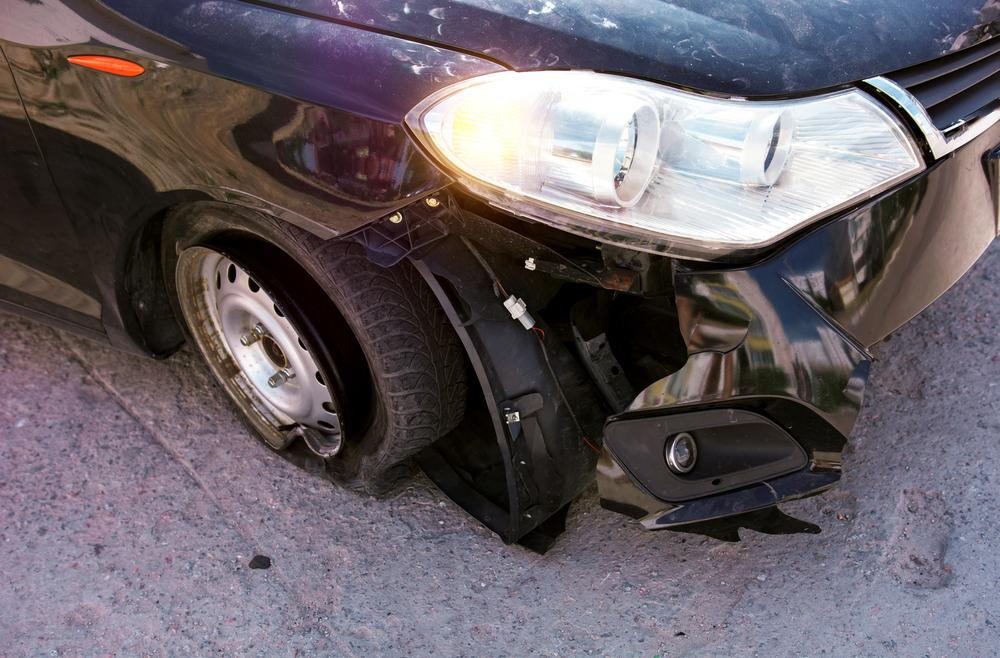tire flat: (163, 202, 476, 499)
